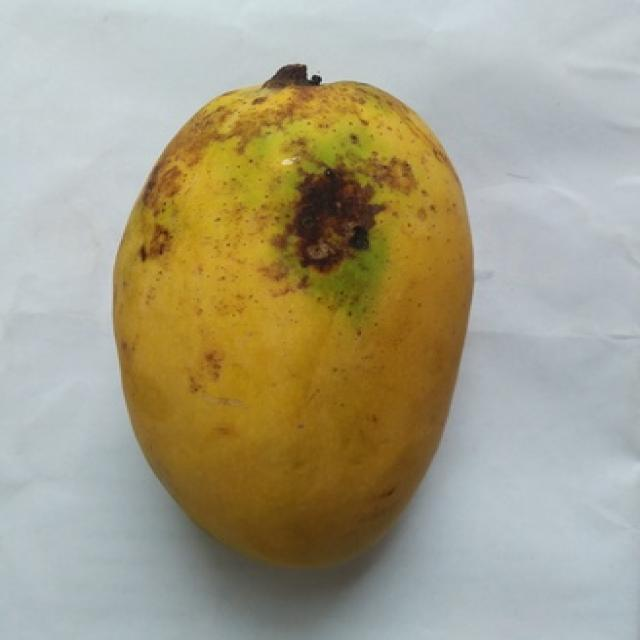Mango: (113, 65, 472, 562)
